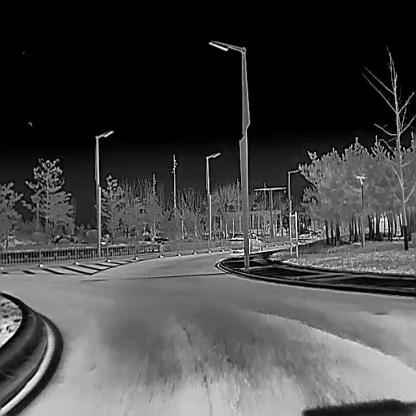car: (228, 232, 263, 253), (298, 230, 318, 244)
